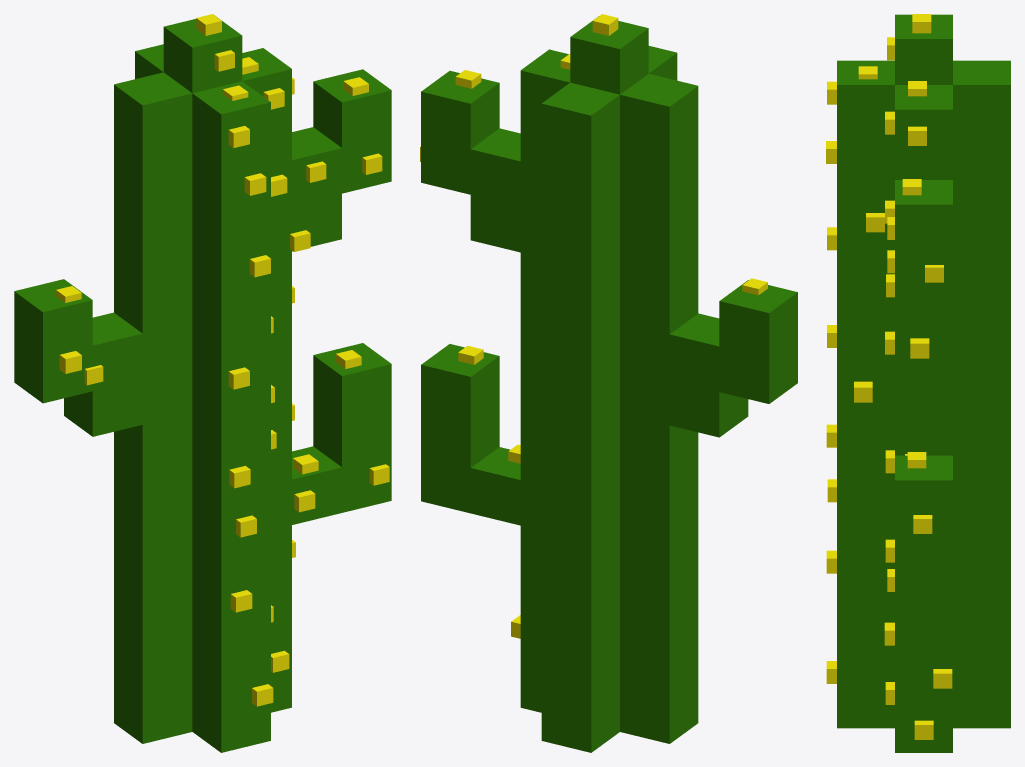
The model's file is mod_cactus1.fbx.
3 views of the same model, side by side, from view 1: azimuth 30°, elevation 25°; view 2: azimuth 150°, elevation 25°; view 3: azimuth 270°, elevation 25° (orthographic).
Visible parts, largest first — view 1: mod_cactus1; view 2: mod_cactus1; view 3: mod_cactus1.
Part boxes in pixels (x1=…): mod_cactus1: x1=14, y1=14, x2=391, y2=752; mod_cactus1: x1=420, y1=14, x2=797, y2=752; mod_cactus1: x1=826, y1=14, x2=1010, y2=752.
Bounding box in the file's own units: 3.63 × 6.76 × 1.62.
